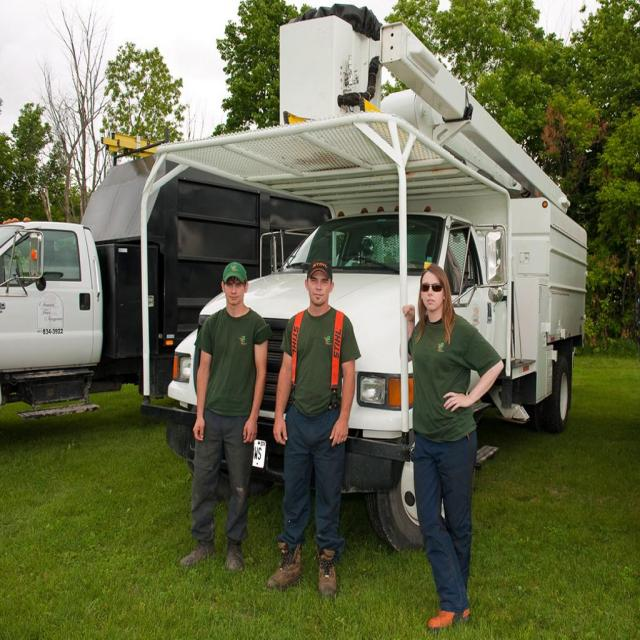nomask: (421, 272, 443, 310), (307, 268, 329, 304), (224, 271, 244, 304)
